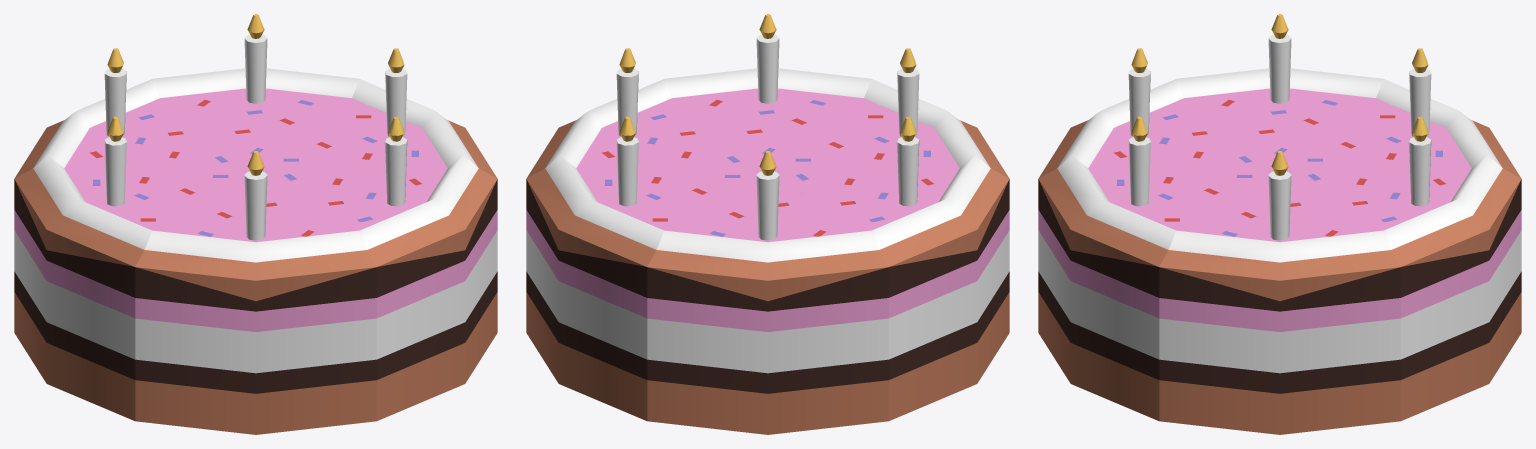
File: cakeBirthday.obj
The picture shows the model from 3 angles, left to right: view 1: azimuth 30°, elevation 25°; view 2: azimuth 150°, elevation 25°; view 3: azimuth 270°, elevation 25°; orthographic projection.
Parts seen in each view (by area): view 1: slice; view 2: slice; view 3: slice.
Boxes of the visible parts, left/top/right/bottom form: slice: left=14, top=14, right=497, bottom=434; slice: left=526, top=14, right=1009, bottom=434; slice: left=1038, top=14, right=1521, bottom=434.
Bounding box in the file's own units: 0.6392 × 0.3638 × 0.6392.
